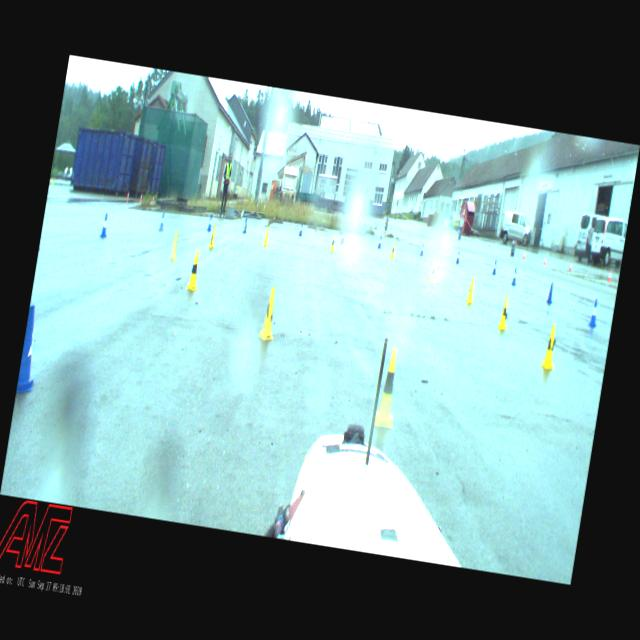blue_cone: (16, 305, 46, 394), (588, 299, 600, 328), (100, 212, 110, 238), (546, 281, 555, 303), (158, 212, 166, 232), (511, 266, 518, 286), (206, 215, 214, 232), (242, 218, 249, 234), (340, 229, 346, 245), (492, 260, 498, 274), (456, 250, 462, 264), (420, 242, 426, 255), (299, 223, 304, 236), (378, 236, 383, 248)
orange_cone: (608, 270, 612, 282), (544, 254, 548, 265), (522, 250, 526, 260), (570, 261, 572, 271)
yellow_cone: (372, 348, 404, 428), (257, 286, 281, 342), (540, 324, 562, 371), (185, 250, 203, 292), (498, 296, 512, 330), (169, 231, 181, 260), (466, 278, 476, 304), (208, 226, 218, 250), (428, 259, 438, 282), (262, 226, 270, 248), (330, 234, 337, 252), (391, 242, 396, 258)
